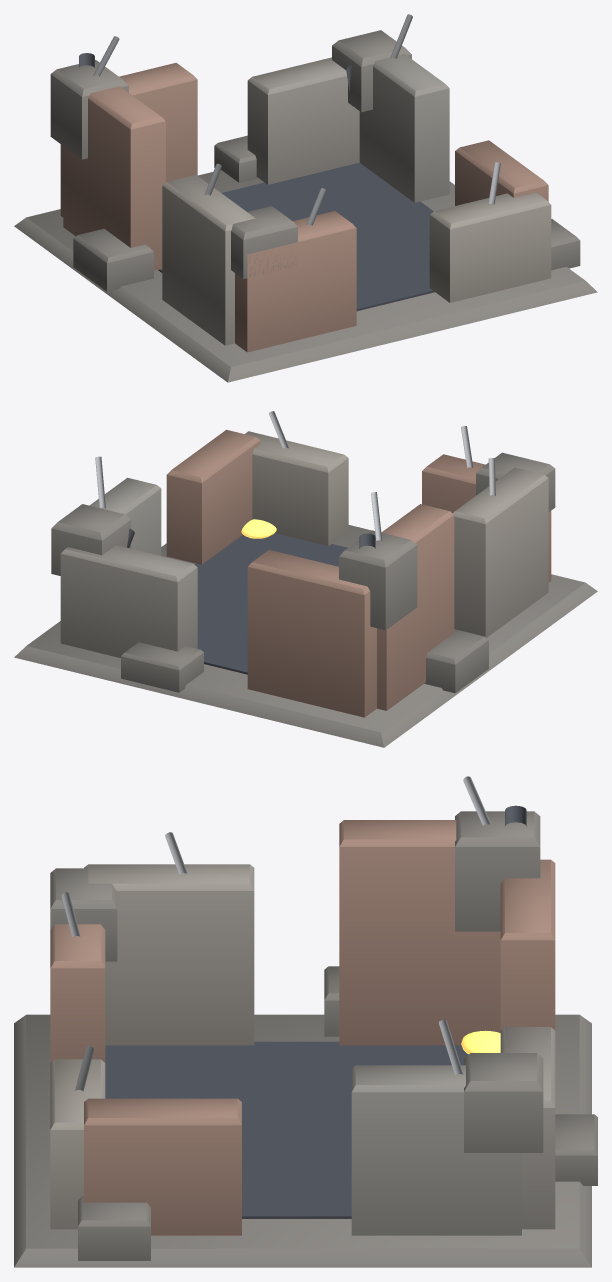
File: civilian_building_ruin.glb
3 views of the same model, one above another, from view 1: azimuth 30°, elevation 25°; view 2: azimuth 150°, elevation 25°; view 3: azimuth 270°, elevation 25° (orthographic). The views are drawn at different scales.
Visible parts, largest first — view 1: Hull; view 2: Hull; view 3: Hull.
Part boxes in pixels (x1,y1,x2,y2): Hull: [14, 14, 597, 382]; Hull: [14, 411, 597, 747]; Hull: [14, 776, 597, 1267].
Size of what is drawn, in the model's own units: 1.96 by 1.03 by 1.92.
